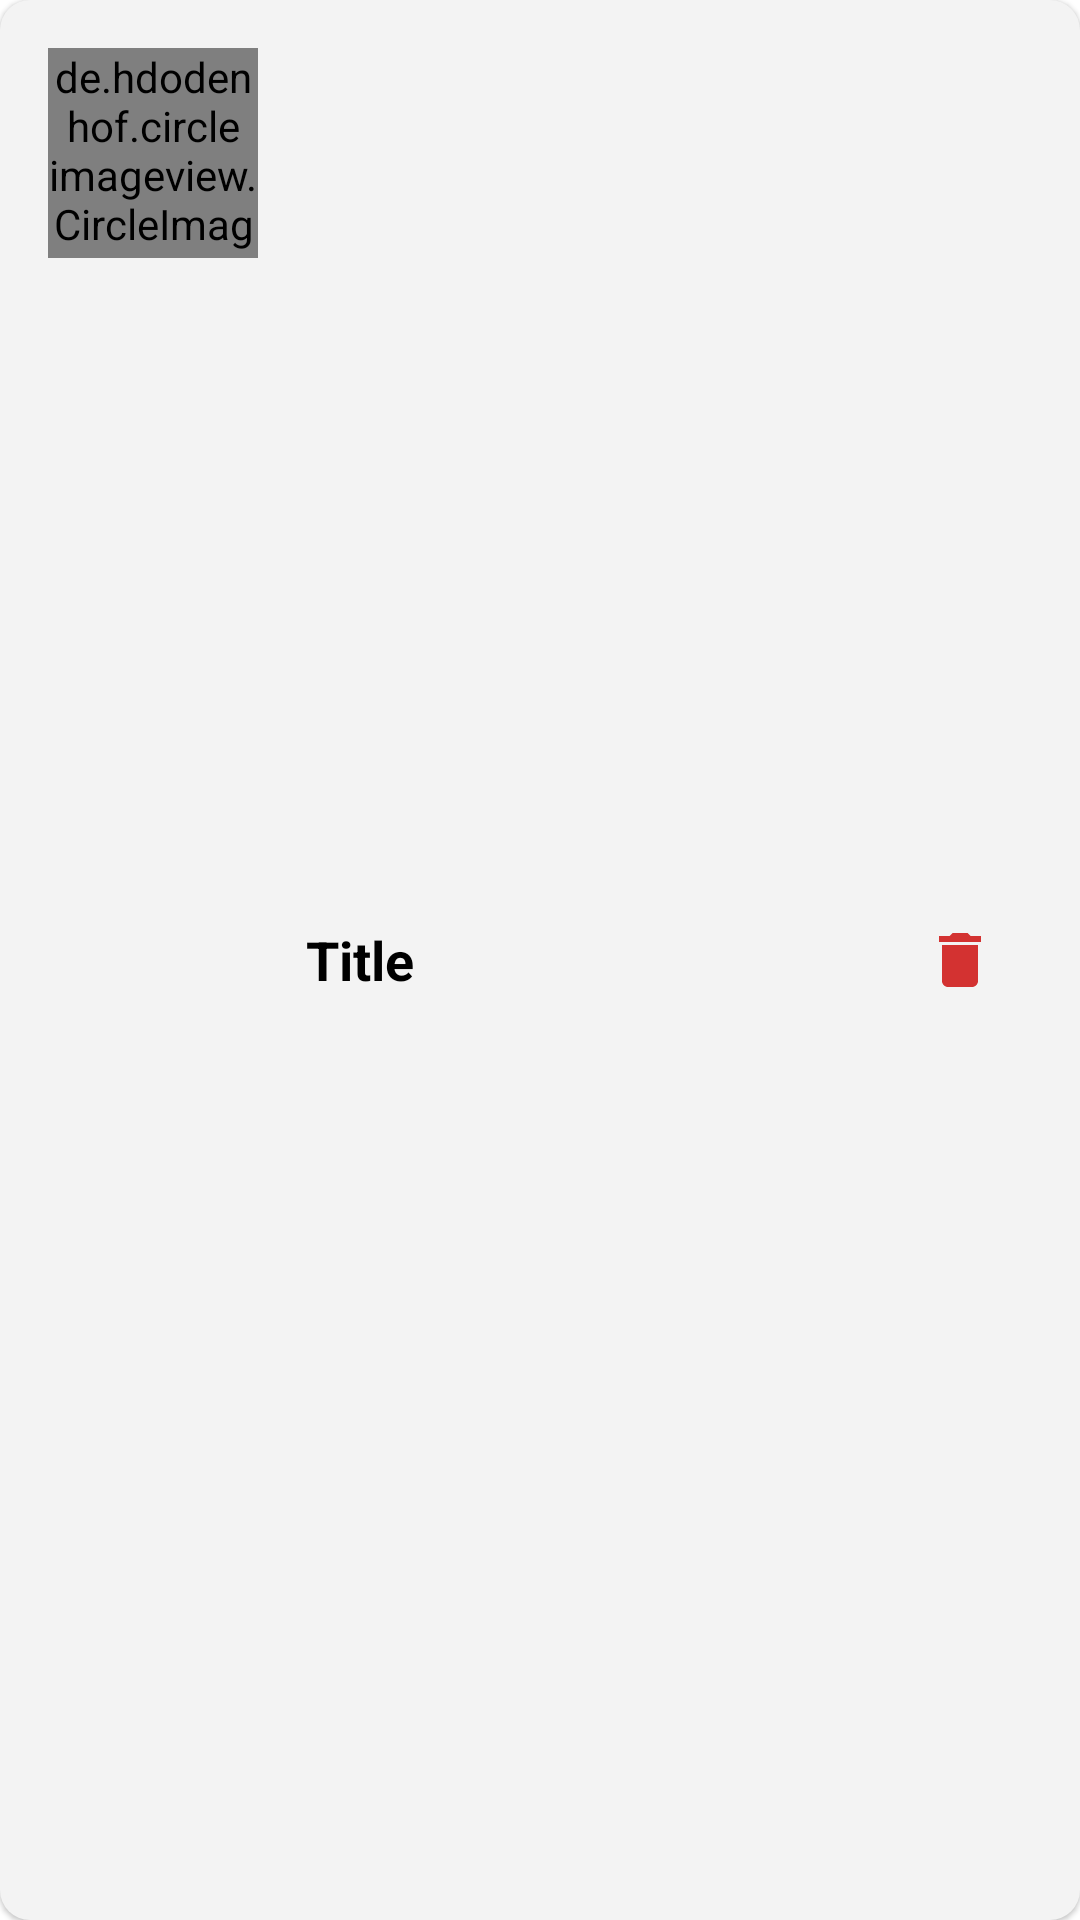

Icons on this 1080*1920 Android screen, each with its box as (left=x1, top=y1, right=x2, bottom=y2):
delete: (left=939, top=933, right=981, bottom=987)
